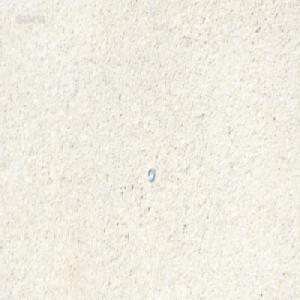Washer: (147, 166, 154, 181)
